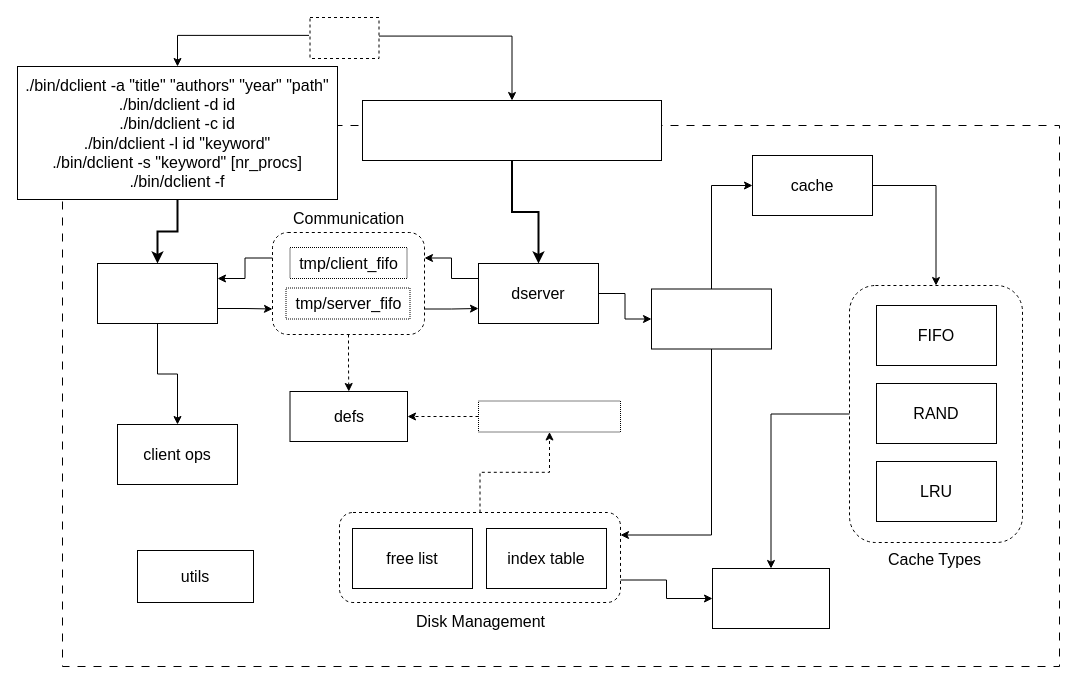
The diagram is 1077 pixels wide and 684 high, and some of its shapes have lost their labels. Here are the shapes that lost their labels. From the top down, the box of each, then its label:
(309, 16, 379, 58): User
(362, 100, 662, 160): ./bin/dserver document_folder cache size [-g] [cache_type]
(96, 262, 218, 324): dclient
(650, 288, 772, 349): server ops
(478, 400, 620, 432): tmp/metadata.bin
(712, 568, 830, 628): document
